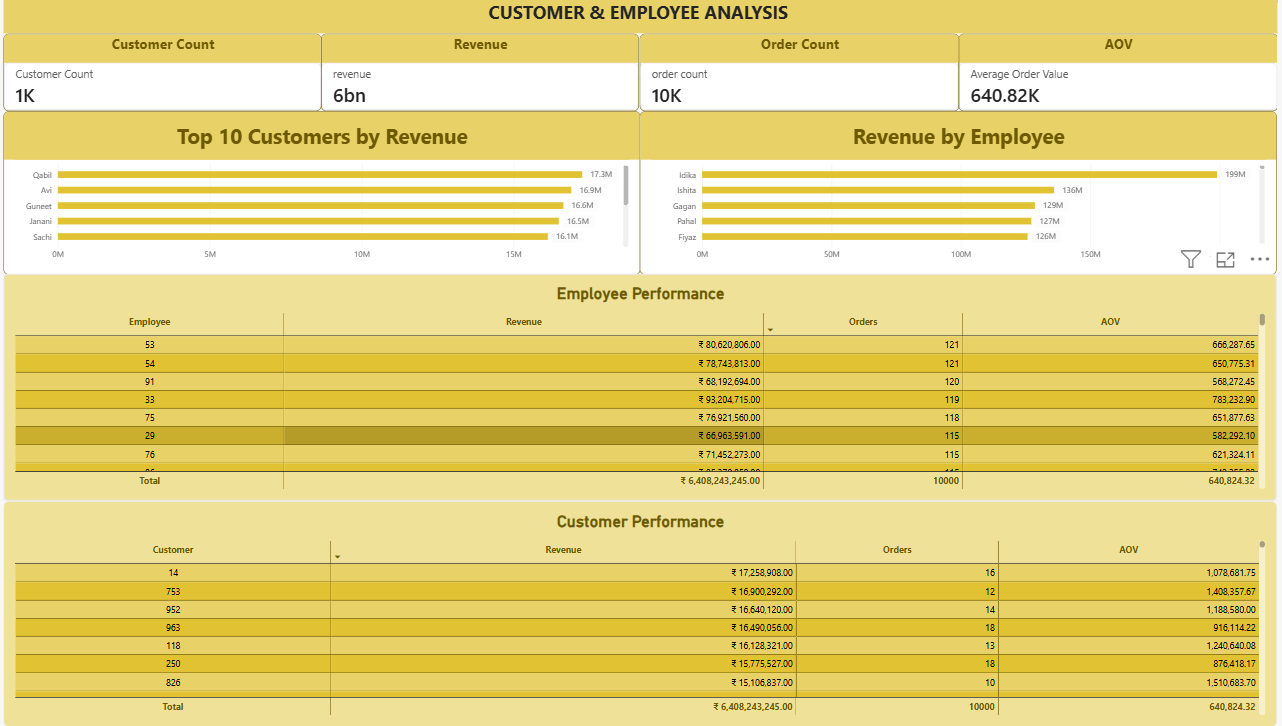

What the dashboard file says about the page in this screenshot:
{"tool":"powerbi","page":{"name":"CUSTOMER & EMPLOYEE ANALYSIS  ","canvas":[1920,1080],"ordinal":3},"visuals":[{"type":"textbox","box":[10.3,0,1895.7,49.4],"z":0},{"type":"cardVisual","title":"AOV","fields":{"Data":["_measures.Average Order Value"]},"box":[1430.5,49.4,475.5,115.3],"z":1000},{"type":"cardVisual","title":"Revenue","fields":{"Data":["_measures.revenue"]},"box":[483.7,49.4,473.1,115.3],"z":2000},{"type":"cardVisual","title":"Order Count","fields":{"Data":["_measures.order count"]},"box":[957.1,49.4,475.5,115.3],"z":3000},{"type":"cardVisual","title":"Customer Count","fields":{"Data":["_measures.Customer Count"]},"box":[10.3,49.4,473.1,115.3],"z":4000},{"type":"clusteredBarChart","title":"Top 10 Customers by Revenue","fields":{"Category":["customers.first_name"],"Y":["_measures.revenue"]},"box":[10.3,164.7,946.8,242.9],"z":5000},{"type":"clusteredBarChart","title":"Revenue by Employee","fields":{"Category":["employees.first_name"],"Y":["_measures.revenue"]},"box":[956.7,165,946.8,242.9],"z":6000},{"type":"tableEx","title":"Employee Performance","fields":{"Values":["employees.Employee_id","_measures.revenue","_measures.order count","_measures.Average Order Value"]},"box":[10.3,407.5,1893.7,337.6],"z":7000},{"type":"tableEx","title":"Customer Performance","fields":{"Values":["FactSales.customer_id","_measures.revenue","_measures.order count","_measures.Average Order Value"]},"box":[10.3,745.1,1893.7,335.5],"z":8000}]}

Visuals, with their boxes in screenshot pixels (x1, y1, x2, y2), scaled from the page's 1920x1080 canvas onto the 1282x726 screenshot:
textbox: [x1=7, y1=0, x2=1273, y2=33]
"AOV" cardVisual: [x1=955, y1=33, x2=1273, y2=111]
"Revenue" cardVisual: [x1=323, y1=33, x2=639, y2=111]
"Order Count" cardVisual: [x1=639, y1=33, x2=957, y2=111]
"Customer Count" cardVisual: [x1=7, y1=33, x2=323, y2=111]
"Top 10 Customers by Revenue" clusteredBarChart: [x1=7, y1=111, x2=639, y2=274]
"Revenue by Employee" clusteredBarChart: [x1=639, y1=111, x2=1271, y2=274]
"Employee Performance" tableEx: [x1=7, y1=274, x2=1271, y2=501]
"Customer Performance" tableEx: [x1=7, y1=501, x2=1271, y2=725]
